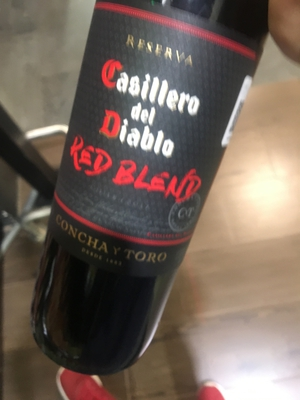casillero del diablo red blend: (48, 5, 264, 369)
